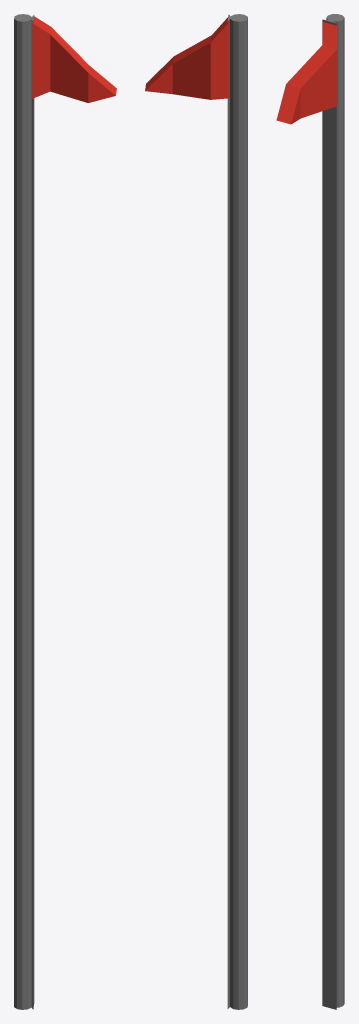
The model's file is Flag.fbx.
The picture shows the model from 3 angles, left to right: view 1: azimuth 30°, elevation 25°; view 2: azimuth 210°, elevation 25°; view 3: azimuth 270°, elevation 25°; orthographic projection.
Parts seen in each view (by area): view 1: Cylinder.002; view 2: Cylinder.002; view 3: Cylinder.002.
Boxes of the visible parts, x1,y1,x2,y2 form: Cylinder.002: [14, 14, 116, 1009]; Cylinder.002: [145, 14, 247, 1009]; Cylinder.002: [276, 14, 344, 1009].
Bounding box in the file's own units: 33.32 × 396 × 24.74.
